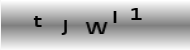1: (129, 7, 142, 21)
J: (59, 19, 68, 36)
W: (84, 21, 108, 35)
l: (112, 10, 117, 24)
t: (32, 15, 43, 28)
